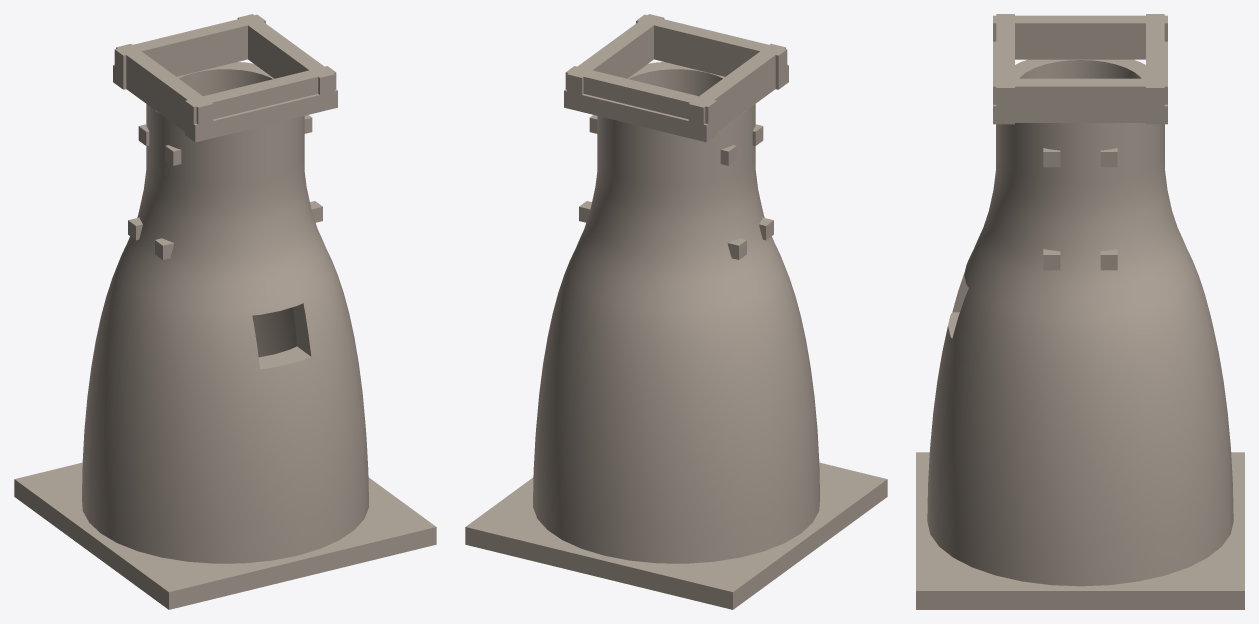
File: 첨성대.glb
The picture shows the model from 3 angles, left to right: view 1: azimuth 30°, elevation 25°; view 2: azimuth 150°, elevation 25°; view 3: azimuth 270°, elevation 25°; orthographic projection. The views are drawn at different scales.
Parts seen in each view (by area): view 1: 건1/첨성대; view 2: 건1/첨성대; view 3: 건1/첨성대.
Boxes of the visible parts, x1=… form: 건1/첨성대: x1=14, y1=14, x2=436, y2=609; 건1/첨성대: x1=465, y1=14, x2=887, y2=609; 건1/첨성대: x1=916, y1=14, x2=1244, y2=609.
Size of the model in its own units: 2.64 by 4.34 by 2.64.
